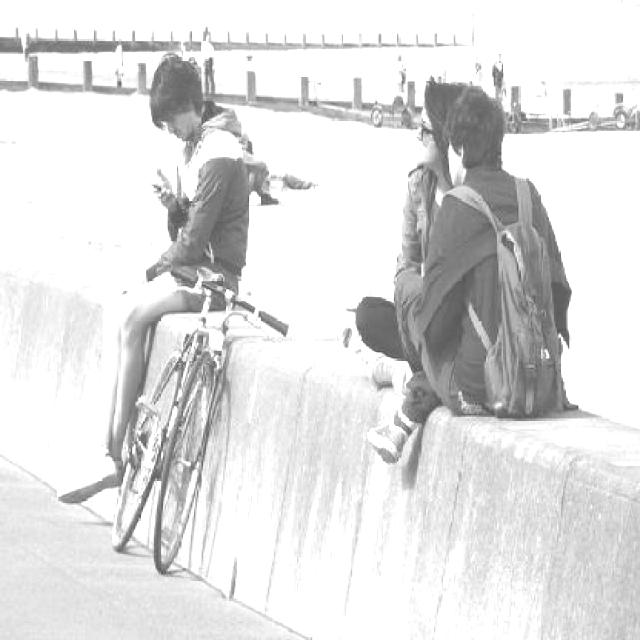Person: (56, 50, 252, 508), (364, 84, 578, 462), (348, 70, 476, 396), (221, 103, 279, 203), (199, 33, 216, 95), (490, 50, 504, 87), (396, 50, 406, 92), (113, 36, 122, 81), (469, 56, 480, 82)
